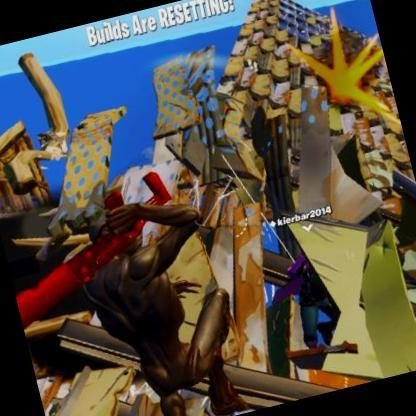person: (287, 264, 346, 352)
